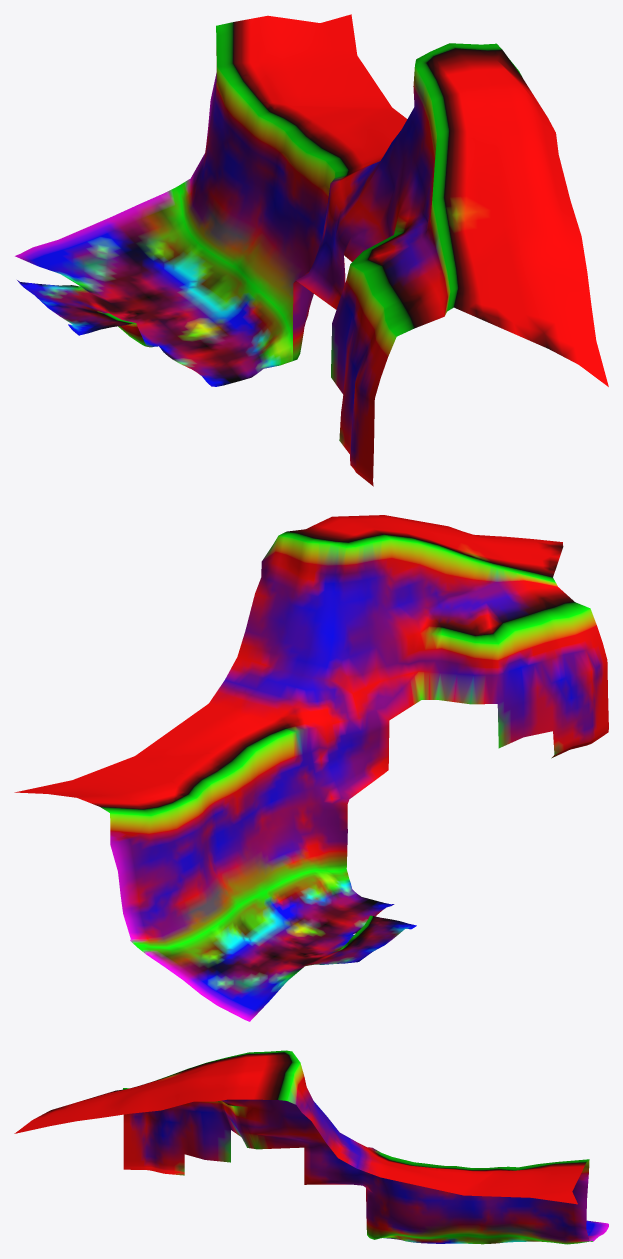
File: Level_01_Terrain_E.fbx
The picture shows the model from 3 angles, top to bottom: view 1: azimuth 30°, elevation 25°; view 2: azimuth 150°, elevation 25°; view 3: azimuth 270°, elevation 25°; orthographic projection. The views are drawn at different scales.
Parts seen in each view (by area): view 1: Geometry_Level_01_Terrain_E_LOD00; view 2: Geometry_Level_01_Terrain_E_LOD00; view 3: Geometry_Level_01_Terrain_E_LOD00.
Boxes of the visible parts, left/top/right/bottom form: Geometry_Level_01_Terrain_E_LOD00: left=15, top=14, right=608, bottom=486; Geometry_Level_01_Terrain_E_LOD00: left=14, top=515, right=608, bottom=1021; Geometry_Level_01_Terrain_E_LOD00: left=14, top=1050, right=608, bottom=1244.
Bounding box in the file's own units: 7083 × 6274 × 15660.
